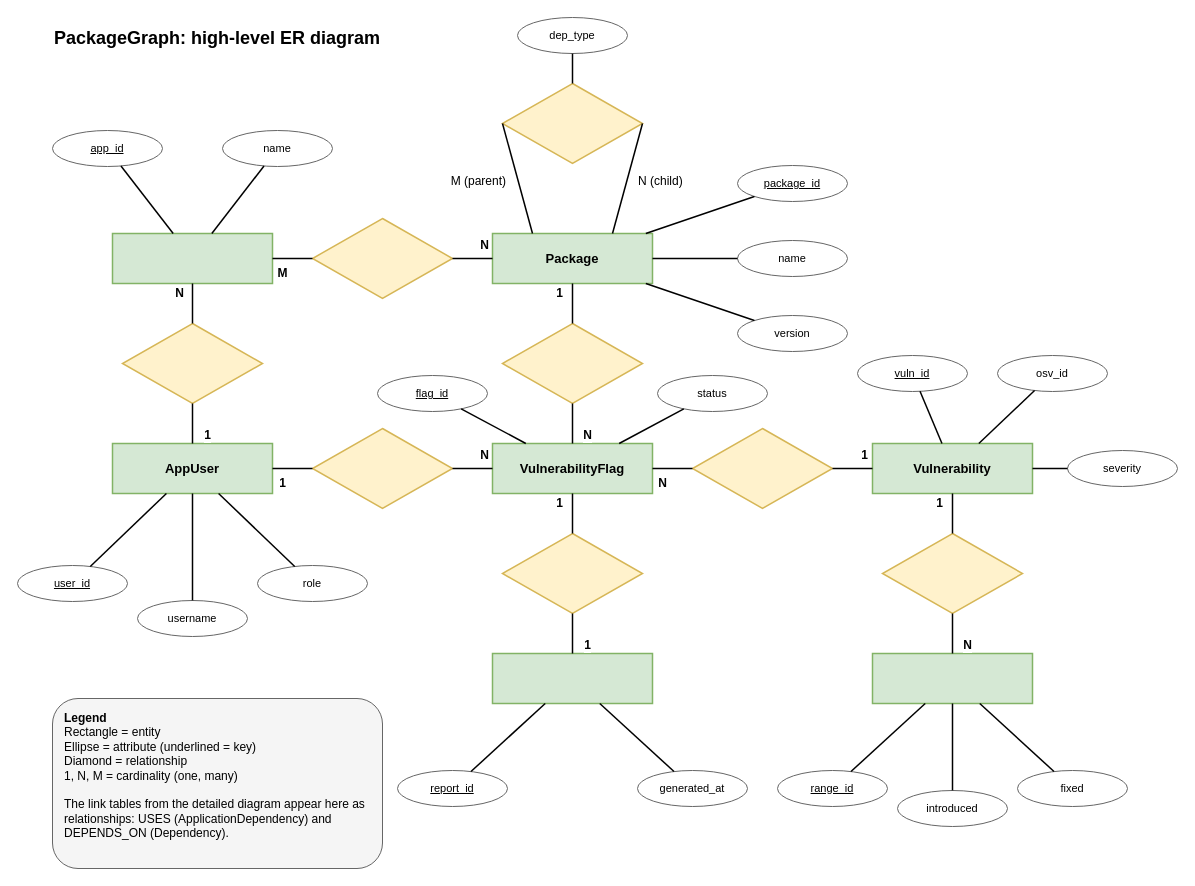
This 1195x886 diagram has some shape labels left out. Each missing label, with the centre of its shape:
AffectedRange: pixel 952 678
Application: pixel 192 258
DEPENDS_ON: pixel 572 123
HAS_FLAG: pixel 572 363
HAS_RANGE: pixel 952 573
ImpactReport: pixel 572 678
OWNS: pixel 192 363
PRODUCES: pixel 572 573
RAISES: pixel 382 468
REFERS_TO: pixel 762 468
USES: pixel 382 258
